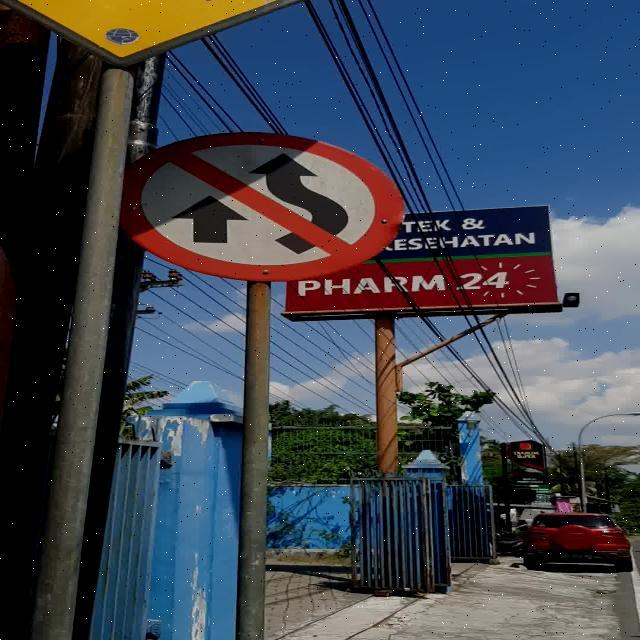Dilarang Mendahului: (126, 132, 404, 280)
